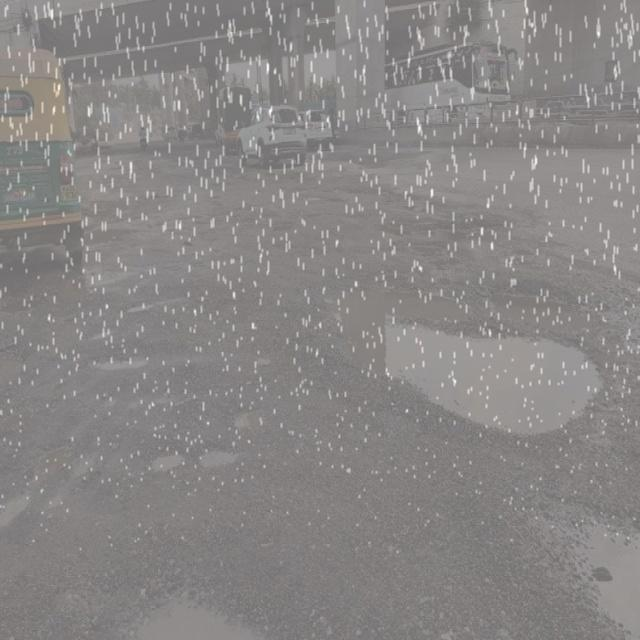Pothole: (363, 297, 607, 439), (518, 489, 640, 638), (369, 180, 510, 280), (104, 562, 267, 640), (541, 248, 640, 294), (24, 432, 76, 492), (80, 345, 158, 373), (114, 289, 192, 317), (0, 487, 31, 543), (199, 442, 245, 472), (132, 450, 185, 476), (78, 269, 134, 292), (288, 189, 343, 209), (0, 294, 48, 314), (268, 218, 302, 241)
